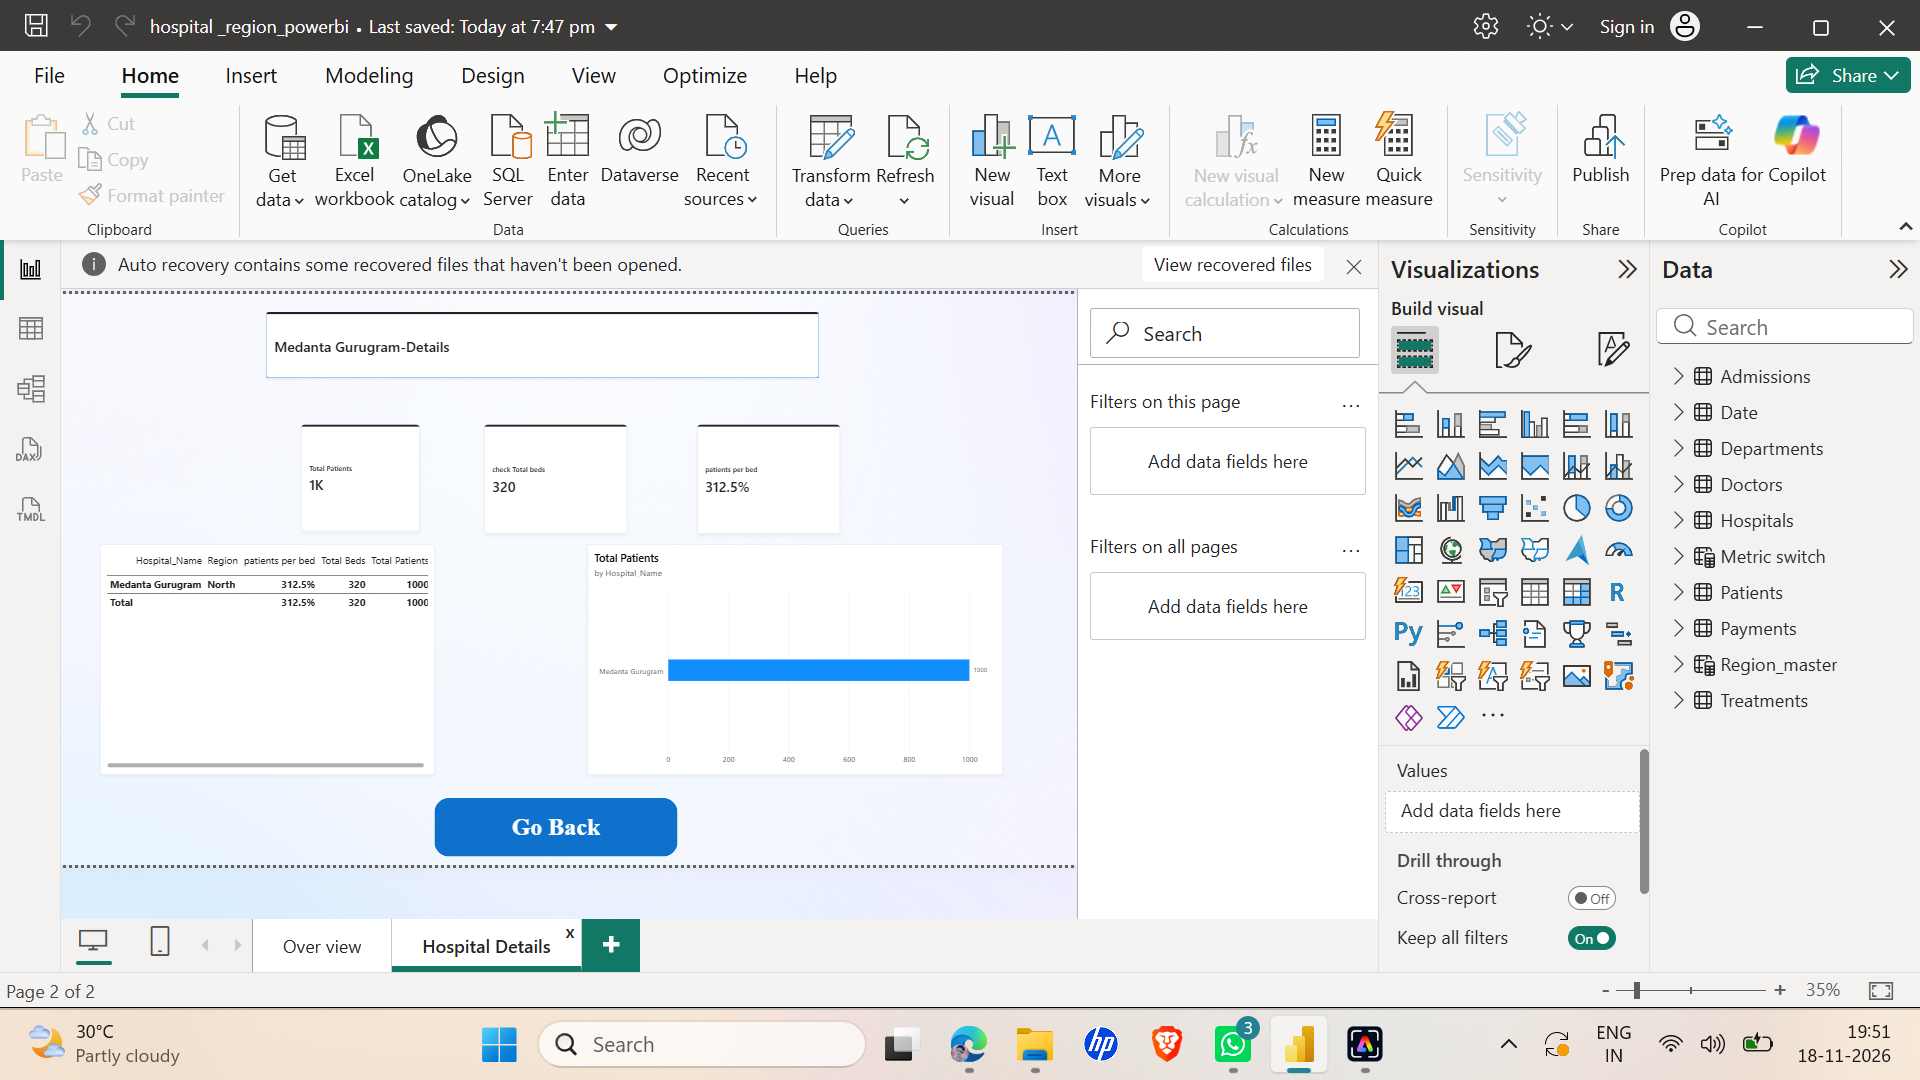

What the dashboard file says about the page in this screenshot:
{"tool":"powerbi","page":{"name":"Hospital Details","canvas":[1920,1080],"ordinal":1},"visuals":[{"type":"tableEx","fields":{"Values":["Hospitals.Hospital_Name","Hospitals.Region","Admissions.bed occupancy rate","Hospitals.Total Beds","Patients.Total Patients"]},"box":[72.5,472.5,632.5,435],"z":0},{"type":"clusteredBarChart","fields":{"Category":["Hospitals.Hospital_Name"],"Y":["Patients.Total Patients"]},"box":[995,472.5,785,435],"z":1000},{"type":"actionButton","box":[705,952.5,459.2,110.6],"z":2000},{"type":"cardVisual","fields":{"Data":["Admissions.Select Hospital Title"]},"box":[388.3,34,1043.2,124.7],"z":3000},{"type":"cardVisual","fields":{"Data":["Patients.Total Patients"]},"box":[452.5,247.5,225,202.5],"z":4000},{"type":"cardVisual","fields":{"Data":["Admissions.check total beds"]},"box":[800,247.5,271,207],"z":5000},{"type":"cardVisual","fields":{"Data":["Admissions.bed occupancy rate"]},"box":[1202.5,247.5,271,207],"z":6000}]}

Visuals, with their boxes on the page's 1920x1080 design canvas (x1, y1, x2, y2). These are canvas units, not pixel positions in the 1920x1080 screenshot, which may show the page scaled, cropped or inside an application window:
tableEx - Hospitals.Hospital_Name x Hospitals.Region: select_region(72, 472, 705, 908)
clusteredBarChart - Hospitals.Hospital_Name x Patients.Total Patients: select_region(995, 472, 1780, 908)
actionButton: select_region(705, 952, 1164, 1063)
cardVisual - Admissions.Select Hospital Title: select_region(388, 34, 1432, 159)
cardVisual - Patients.Total Patients: select_region(452, 248, 678, 450)
cardVisual - Admissions.check total beds: select_region(800, 248, 1071, 454)
cardVisual - Admissions.bed occupancy rate: select_region(1202, 248, 1474, 454)
